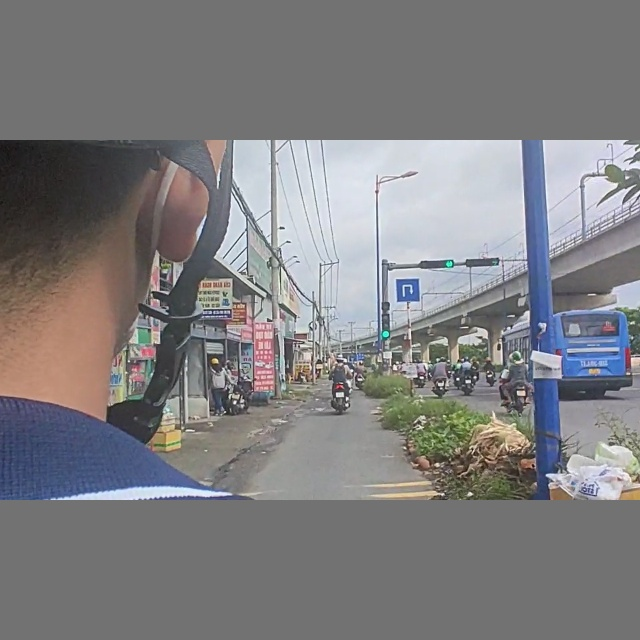I.409: (394, 277, 421, 303)
